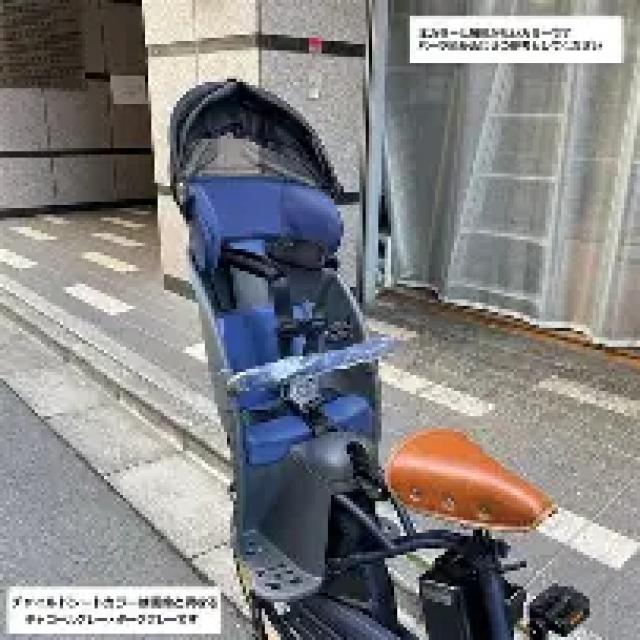childseat: (168, 76, 403, 605)
